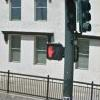traffic lights: (78, 0, 92, 34), (46, 43, 64, 60)
